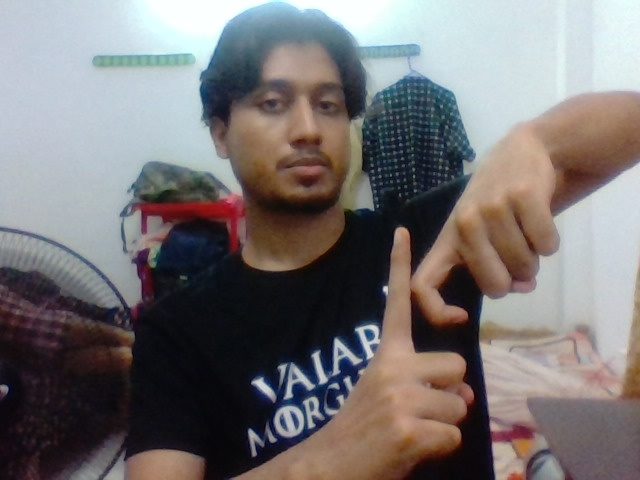K: (330, 206, 532, 457)
